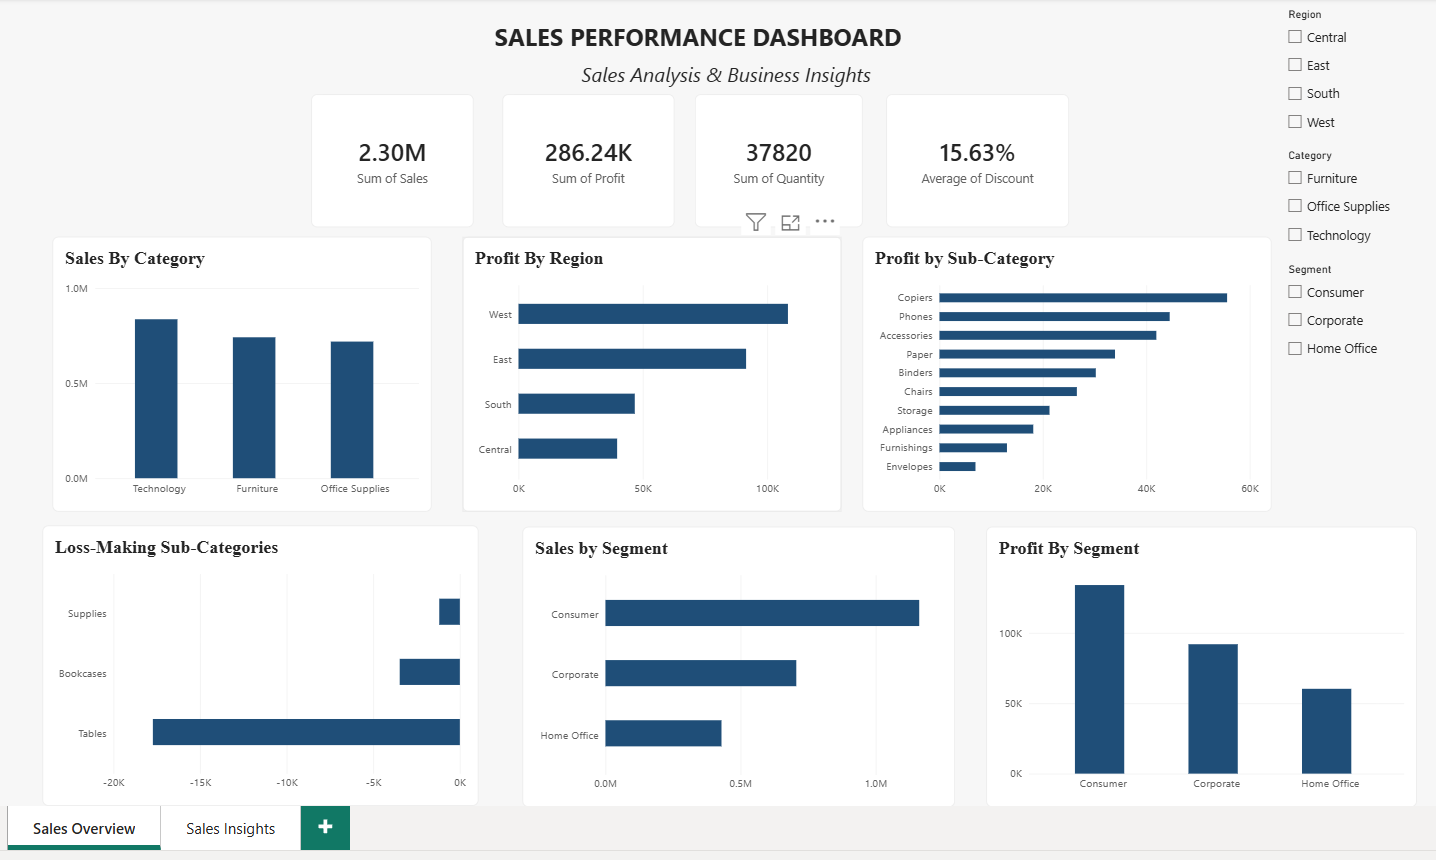

Layout of this report page (visuals, bound fields, positions):
{"tool":"powerbi","page":{"name":"Sales Overview","canvas":[1920,1080],"ordinal":0},"visuals":[{"type":"card","fields":{"Values":["Sum(Sales_Cleaned.Sales)"]},"box":[416,128,217.2,177.3],"z":0},{"type":"card","fields":{"Values":["Sum(Sales_Cleaned.Profit)"]},"box":[672,128,229.8,177.3],"z":1000},{"type":"card","fields":{"Values":["Sum(Sales_Cleaned.Quantity)"]},"box":[928,128,224.4,177.3],"z":2000},{"type":"card","fields":{"Values":["Avg(Sales_Cleaned.Discount)"]},"box":[1184,128,244.3,177.3],"z":3000},{"type":"clusteredColumnChart","title":"Sales By Category","fields":{"Category":["Sales_Cleaned.Category"],"Y":["Sum(Sales_Cleaned.Sales)"]},"box":[70.6,318.5,506.7,367.4],"z":4000},{"type":"clusteredBarChart","title":"Profit By Region","fields":{"Category":["Sales_Cleaned.Region"],"Y":["Sum(Sales_Cleaned.Profit)"]},"box":[617.1,318.5,506.7,367.4],"z":5000},{"type":"clusteredBarChart","title":"Profit by Sub-Category","fields":{"Category":["Sales_Cleaned.Sub-Category"],"Y":["Sum(Sales_Cleaned.Profit)"]},"box":[1152.8,318.5,546.5,367.4],"z":6000},{"type":"clusteredBarChart","title":"Loss-Making Sub-Categories","fields":{"Category":["Sales_Cleaned.Sub-Category"],"Y":["Sum(Sales_Cleaned.Sales)"]},"box":[56.1,704,582.7,374.6],"z":7000},{"type":"clusteredBarChart","title":"Sales by Segment","fields":{"Category":["Sales_Cleaned.Segment"],"Y":["Sum(Sales_Cleaned.Sales)"]},"box":[698.5,705.8,577.3,374.6],"z":8000},{"type":"clusteredColumnChart","title":"Profit By Segment","fields":{"Category":["Sales_Cleaned.Segment"],"Y":["Sum(Sales_Cleaned.Profit)"]},"box":[1317.4,705.8,575.5,374.6],"z":9000},{"type":"textbox","box":[70.6,30.8,1724.6,52.5],"z":9001},{"type":"textbox","box":[1770,147,150,268],"z":9002},{"type":"textbox","box":[19.9,83.2,1900.1,38],"z":9003},{"type":"slicer","fields":{"Values":["Sales_Cleaned.Region"]},"box":[1713.7,12.7,206.3,181],"z":9004},{"type":"slicer","fields":{"Values":["Sales_Cleaned.Segment"]},"box":[1713.7,354.7,179.2,184.6],"z":9005},{"type":"slicer","fields":{"Values":["Sales_Cleaned.Category"]},"box":[1713.7,202.7,206.3,190],"z":9006}]}

Visuals, with their boxes on the page's 1920x1080 design canvas (x1, y1, x2, y2). These are canvas units, not pixel positions in the 1436x860 screenshot, which may show the page scaled, cropped or inside an application window:
card - Sum(Sales_Cleaned.Sales): <bbox>416, 128, 633, 305</bbox>
card - Sum(Sales_Cleaned.Profit): <bbox>672, 128, 902, 305</bbox>
card - Sum(Sales_Cleaned.Quantity): <bbox>928, 128, 1152, 305</bbox>
card - Avg(Sales_Cleaned.Discount): <bbox>1184, 128, 1428, 305</bbox>
"Sales By Category" clusteredColumnChart: <bbox>71, 318, 577, 686</bbox>
"Profit By Region" clusteredBarChart: <bbox>617, 318, 1124, 686</bbox>
"Profit by Sub-Category" clusteredBarChart: <bbox>1153, 318, 1699, 686</bbox>
"Loss-Making Sub-Categories" clusteredBarChart: <bbox>56, 704, 639, 1079</bbox>
"Sales by Segment" clusteredBarChart: <bbox>698, 706, 1276, 1080</bbox>
"Profit By Segment" clusteredColumnChart: <bbox>1317, 706, 1893, 1080</bbox>
textbox: <bbox>71, 31, 1795, 83</bbox>
textbox: <bbox>1770, 147, 1920, 415</bbox>
textbox: <bbox>20, 83, 1920, 121</bbox>
slicer - Sales_Cleaned.Region: <bbox>1714, 13, 1920, 194</bbox>
slicer - Sales_Cleaned.Segment: <bbox>1714, 355, 1893, 539</bbox>
slicer - Sales_Cleaned.Category: <bbox>1714, 203, 1920, 393</bbox>
